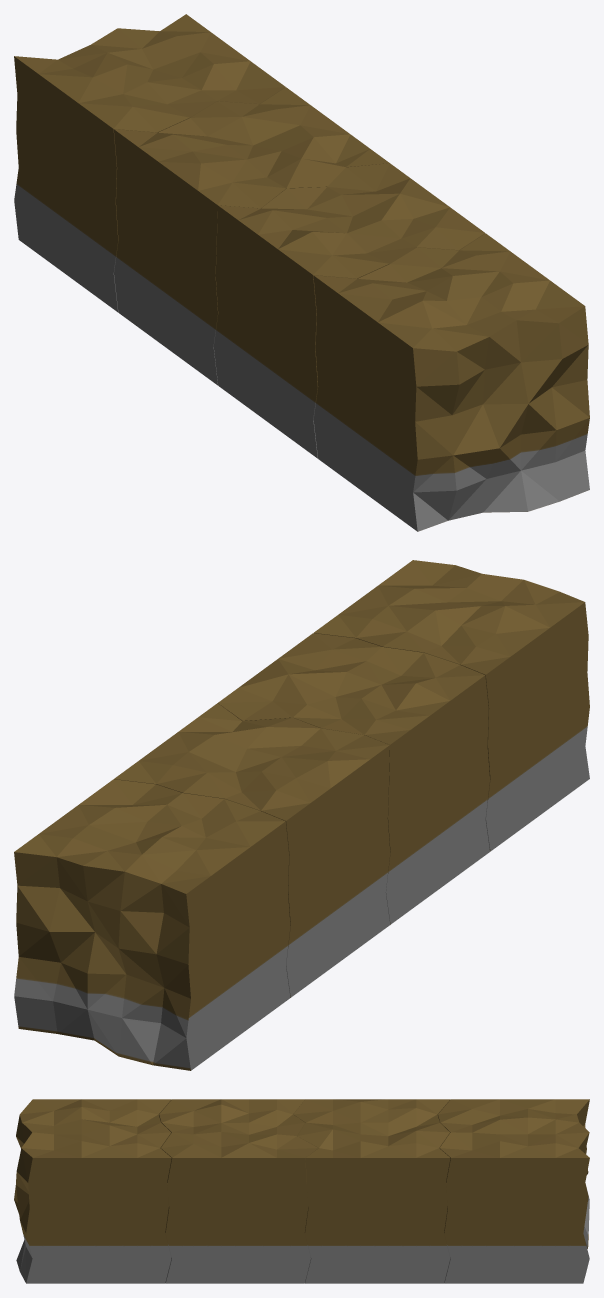
Rendered from SM_path_DE.fbx.
3 renders of one model, top to bottom at view 1: azimuth 30°, elevation 25°; view 2: azimuth 150°, elevation 25°; view 3: azimuth 270°, elevation 25°, orthographic. The views are drawn at different scales.
Parts seen in each view (by area): view 1: SM_path_1_DE, SM_path_rightmid_DE, SM_path_2_DE, SM_path_leftmid_DE; view 2: SM_path_2_DE, SM_path_leftmid_DE, SM_path_1_DE, SM_path_rightmid_DE; view 3: SM_path_1_DE, SM_path_2_DE, SM_path_rightmid_DE, SM_path_leftmid_DE.
Boxes of the visible parts, x1,y1,x2,y2 form: SM_path_1_DE: (313,233,589,531); SM_path_rightmid_DE: (114,87,389,385); SM_path_2_DE: (14,14,285,312); SM_path_leftmid_DE: (213,163,485,458); SM_path_2_DE: (14,779,290,1070); SM_path_leftmid_DE: (218,633,489,924); SM_path_1_DE: (314,560,589,851); SM_path_rightmid_DE: (114,703,390,997); SM_path_1_DE: (14,1099,171,1283); SM_path_2_DE: (438,1099,589,1283); SM_path_rightmid_DE: (293,1099,450,1283); SM_path_leftmid_DE: (159,1099,318,1283).
Bounding box in the file's own units: 120 × 498 × 127.
